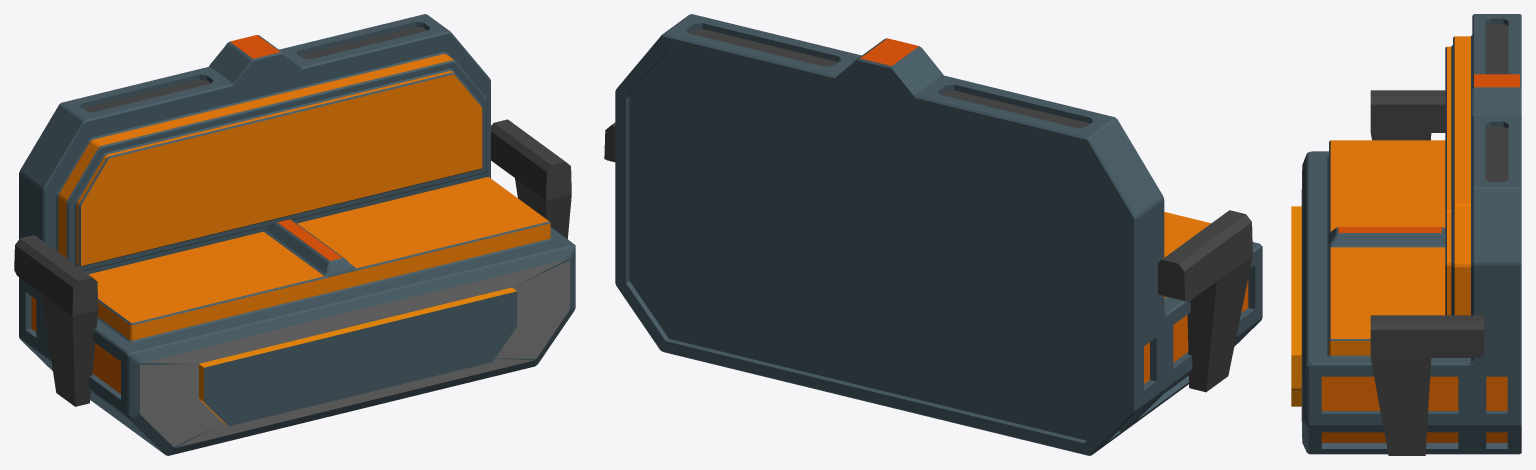
File: Sofa  2.fbx
3 renders of one model, left to right at view 1: azimuth 30°, elevation 25°; view 2: azimuth 150°, elevation 25°; view 3: azimuth 270°, elevation 25°, orthographic. The views are drawn at different scales.
Visible parts, largest first — view 1: Sofa.007; view 2: Sofa.007; view 3: Sofa.007.
Boxes of the visible parts, x1=… form: Sofa.007: x1=14, y1=14, x2=575, y2=455; Sofa.007: x1=604, y1=14, x2=1262, y2=455; Sofa.007: x1=1291, y1=14, x2=1521, y2=455.
Size of the model in its own units: 1.81 by 1.02 by 0.7407.
